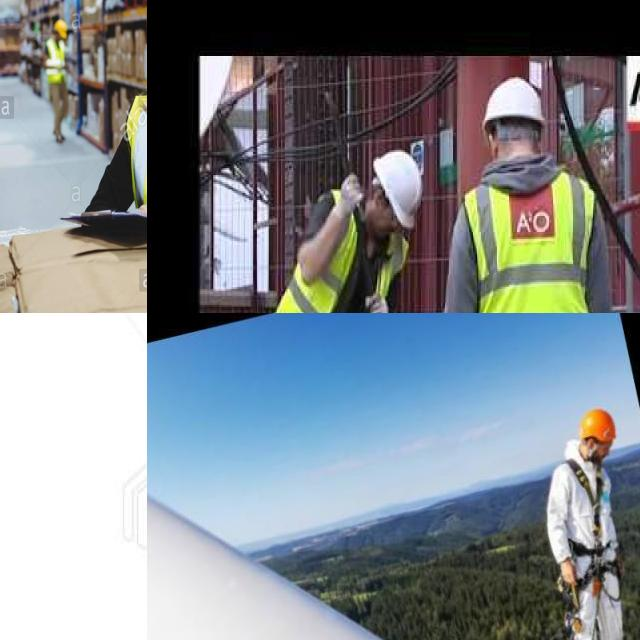Harness: (566, 459, 612, 556)
hand_glove: (332, 175, 364, 221), (361, 287, 393, 313)
head_helmet: (373, 150, 424, 227), (480, 78, 546, 132), (54, 18, 70, 36)
person: (435, 77, 613, 313), (277, 150, 417, 313), (116, 0, 147, 313), (42, 16, 74, 141)
vest: (465, 169, 597, 313), (271, 186, 354, 313), (43, 40, 76, 88)
